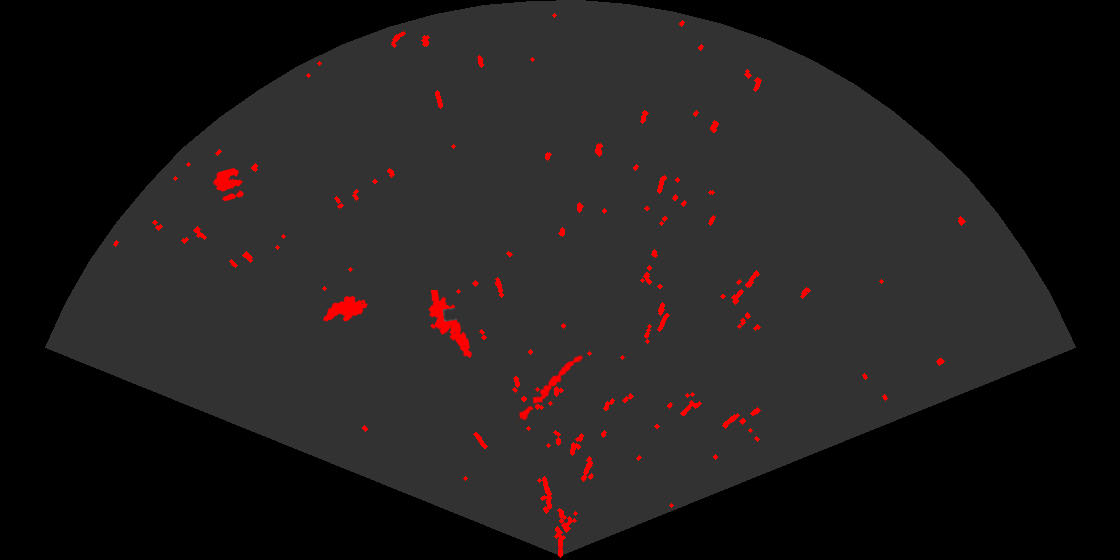AUV: (322, 294, 369, 323)
ball: (212, 166, 246, 203)
chain: (514, 354, 584, 425)
frogman: (427, 290, 473, 360)
